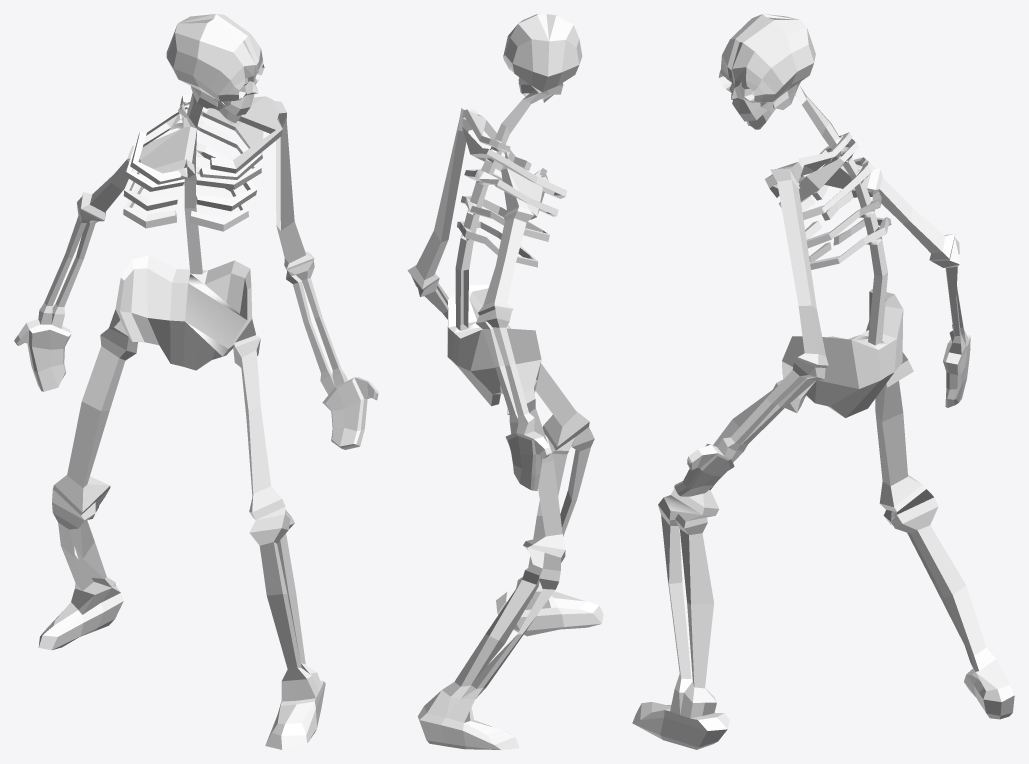
File: SkeletonIdle(18).obj
The picture shows the model from 3 angles, left to right: view 1: azimuth 30°, elevation 25°; view 2: azimuth 150°, elevation 25°; view 3: azimuth 270°, elevation 25°; orthographic projection. The views are drawn at different scales.
Visible parts, largest first — view 1: Object002; view 2: Object002; view 3: Object002.
Part boxes in pixels (box(x1,y1,x2,y2)): Object002: box(14, 14, 378, 749); Object002: box(407, 14, 603, 749); Object002: box(632, 14, 1014, 749).
Size of the model in its own units: 390 by 1121 by 556.
